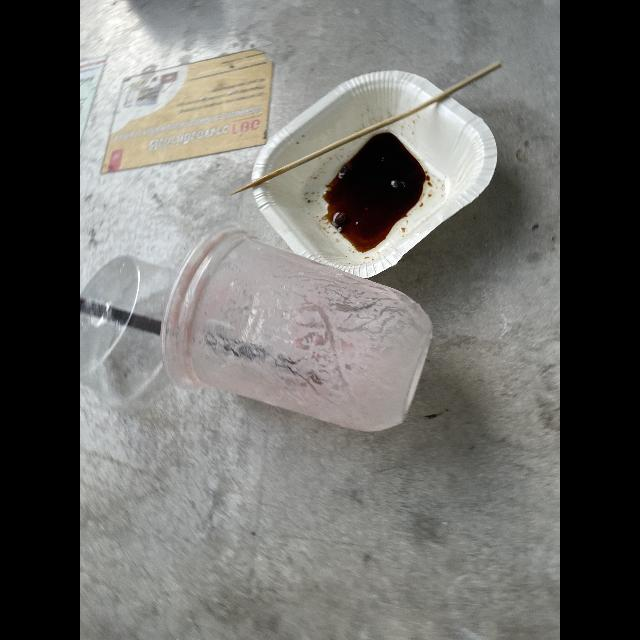cardboard_bowl: (254, 62, 496, 286)
plastic_cup: (158, 223, 464, 441)
plastic_cup_lid: (80, 247, 190, 421)
stick: (212, 46, 520, 213)
